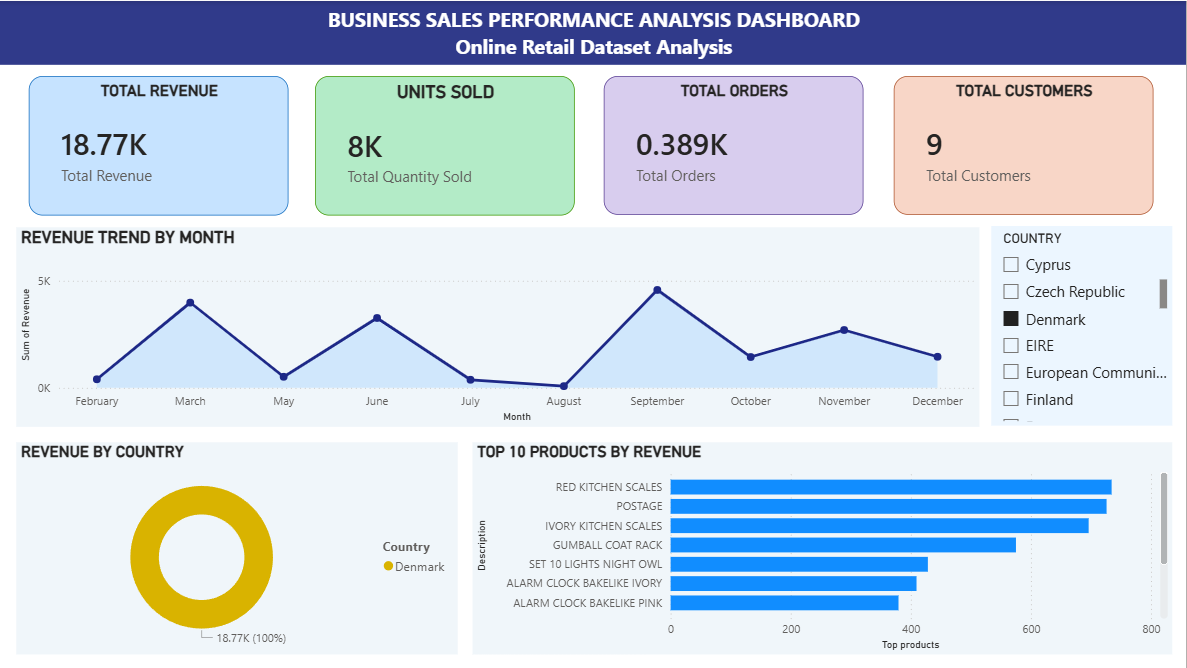

This screenshot's page, from the dashboard's own definition file:
{"tool":"powerbi","page":{"name":"Page 1","canvas":[1280,720],"ordinal":0},"visuals":[{"type":"cardVisual","title":"UNITS SOLD","fields":{"Data":["Sum(online_retail.Quantity)"]},"box":[338.9,81,280,150],"z":0},{"type":"cardVisual","title":"TOTAL CUSTOMERS","fields":{"Data":["Count(online_retail.CustomerID)"]},"box":[963.3,81,279.9,149.6],"z":1000},{"type":"areaChart","title":"REVENUE TREND BY MONTH","fields":{"Y":["Sum(online_retail.Revenue)"],"Category":["online_retail.InvoiceDate.Variation.Date Hierarchy.Month"]},"box":[17.8,244.3,1038.8,215.4],"z":2000},{"type":"clusteredBarChart","title":"TOP 10 PRODUCTS BY REVENUE","fields":{"Y":["Sum(online_retail.Revenue)"],"Category":["online_retail.Description"]},"box":[509.1,476.2,754.7,229.2],"z":3000},{"type":"donutChart","title":"REVENUE BY COUNTRY","fields":{"Category":["online_retail.Country"],"Y":["Sum(online_retail.Revenue)"]},"box":[17.8,476.2,476.2,229.2],"z":4000},{"type":"slicer","fields":{"Values":["online_retail.Country"]},"box":[1069,242.9,194.9,215.4],"z":5000},{"type":"textbox","box":[0,0,1280.3,68.6],"z":6000},{"type":"cardVisual","title":"TOTAL REVENUE","fields":{"Data":["Sum(online_retail.Revenue)"]},"box":[31.6,81,280,150],"z":7000},{"type":"cardVisual","title":"TOTAL ORDERS","fields":{"Data":["CountNonNull(online_retail.InvoiceNo)"]},"box":[650.4,81,279.9,149.6],"z":8000}]}

Visuals, with their boxes in screenshot pixels (x1, y1, x2, y2), scaled from the page's 1280x720 canvas onto the 1187x668 screenshot:
"UNITS SOLD" cardVisual: (left=314, top=75, right=574, bottom=214)
"TOTAL CUSTOMERS" cardVisual: (left=893, top=75, right=1153, bottom=214)
"REVENUE TREND BY MONTH" areaChart: (left=17, top=227, right=980, bottom=426)
"TOP 10 PRODUCTS BY REVENUE" clusteredBarChart: (left=472, top=442, right=1172, bottom=654)
"REVENUE BY COUNTRY" donutChart: (left=17, top=442, right=458, bottom=654)
slicer - online_retail.Country: (left=991, top=225, right=1172, bottom=425)
textbox: (left=0, top=0, right=1186, bottom=64)
"TOTAL REVENUE" cardVisual: (left=29, top=75, right=289, bottom=214)
"TOTAL ORDERS" cardVisual: (left=603, top=75, right=863, bottom=214)
